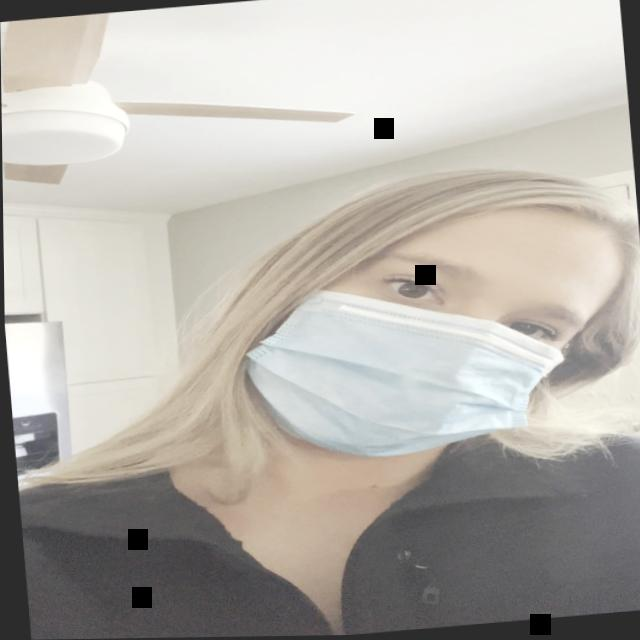Mask: (204, 176, 640, 478)
